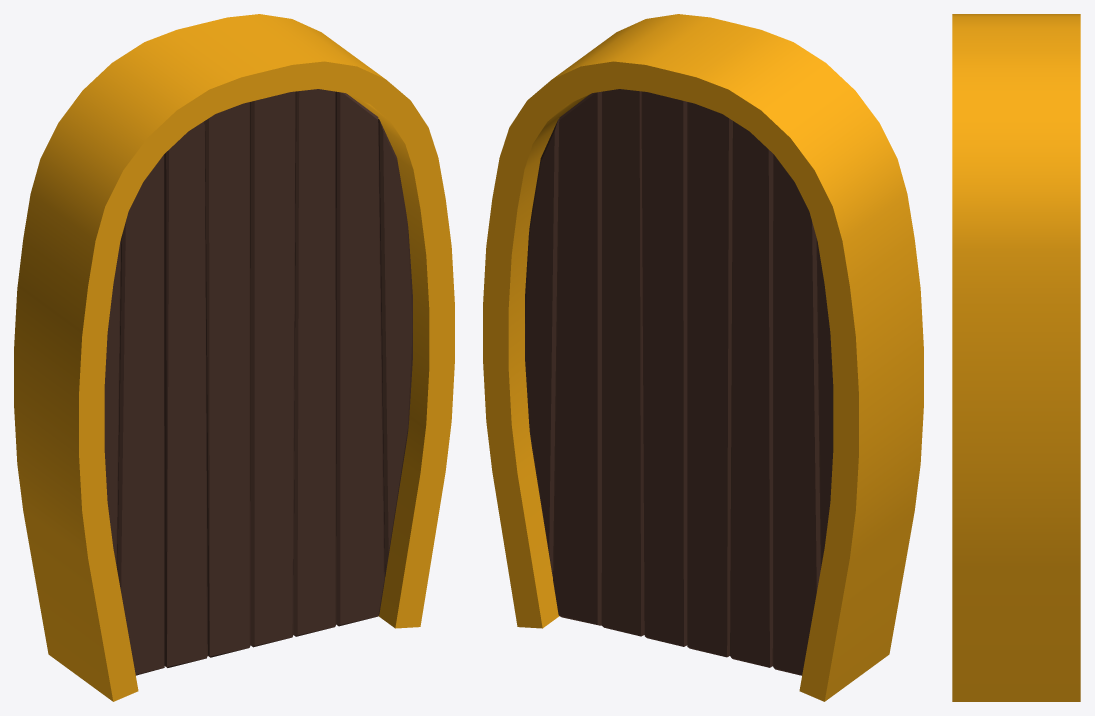
The model's file is Door_Room_Prize.fbx.
3 views of the same model, side by side, from view 1: azimuth 30°, elevation 25°; view 2: azimuth 150°, elevation 25°; view 3: azimuth 270°, elevation 25° (orthographic).
Parts seen in each view (by area): view 1: Door, Door Frame; view 2: Door, Door Frame; view 3: Door Frame.
Part boxes in pixels (left/top/right/bottom): Door: left=104, top=89, right=412, bottom=675; Door Frame: left=14, top=14, right=454, bottom=701; Door: left=525, top=89, right=833, bottom=675; Door Frame: left=483, top=14, right=923, bottom=701; Door Frame: left=952, top=14, right=1080, bottom=701.
Bounding box in the file's own units: 147 × 222 × 43.96.
